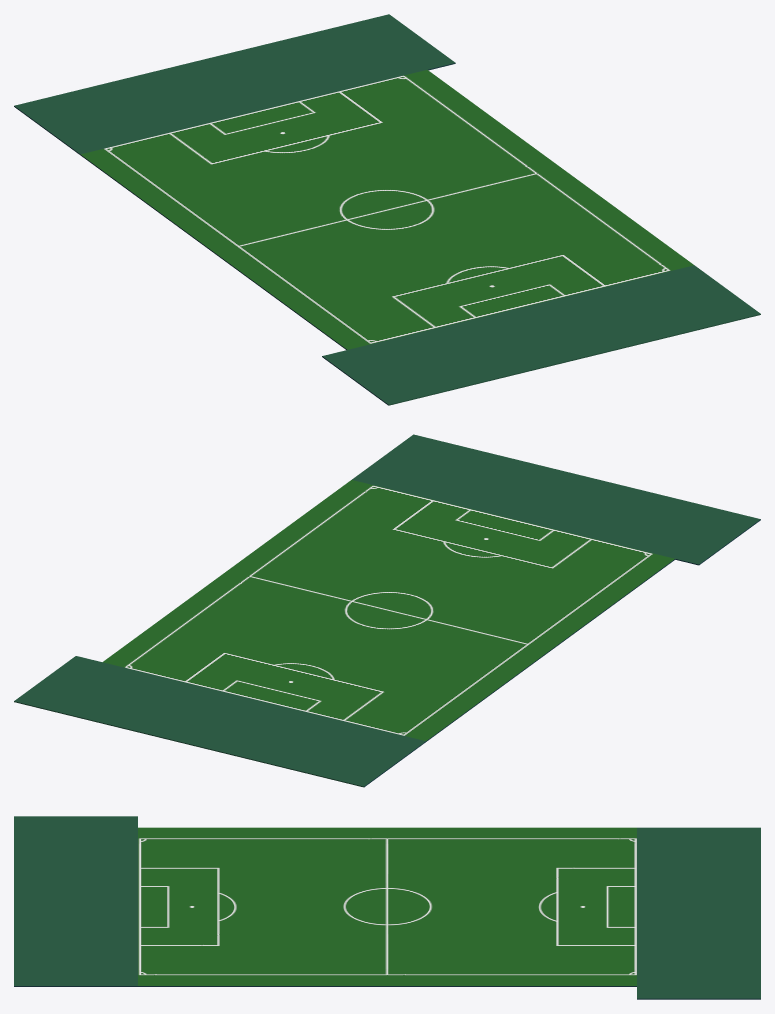
3 renders of one model, top to bottom at view 1: azimuth 30°, elevation 25°; view 2: azimuth 150°, elevation 25°; view 3: azimuth 270°, elevation 25°, orthographic. The views are drawn at different scales.
Visible parts, largest first — view 1: field; view 2: field; view 3: field.
Part boxes in pixels (box(x1,y1,x2,y2)): field: box(14, 14, 760, 405); field: box(14, 434, 760, 787); field: box(14, 816, 760, 999).
Bounding box in the file's own units: 104 × 0.25 × 180.
2 materials, 2 textured.
